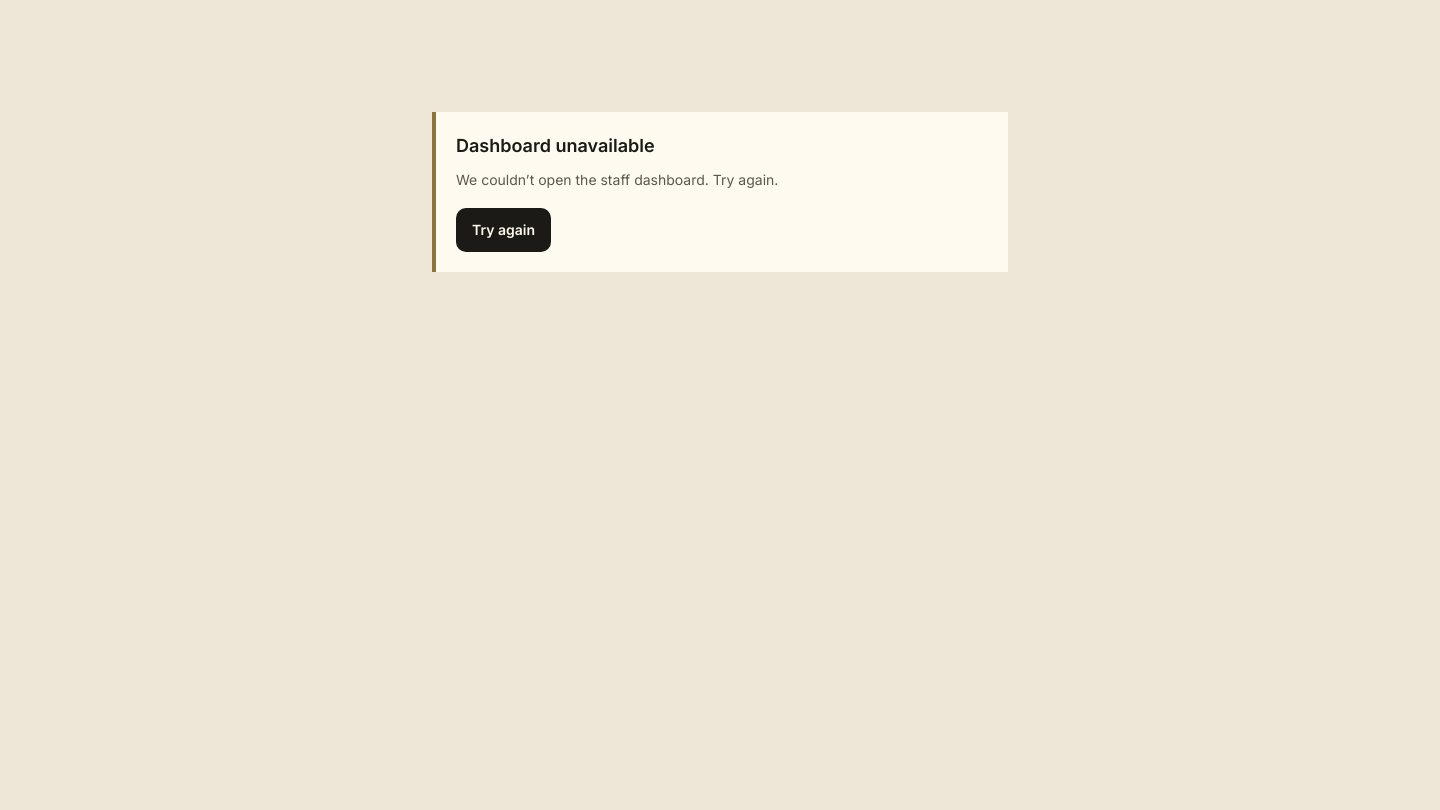
Test: role-aware shell and session boundary › shows generic session unavailability and retries without exposing response details
Expected: the message shows "Dashboard unavailable", [456,135,655,156]
Click the button "Try again": {"x": 504, "y": 230} [456,208,551,252]
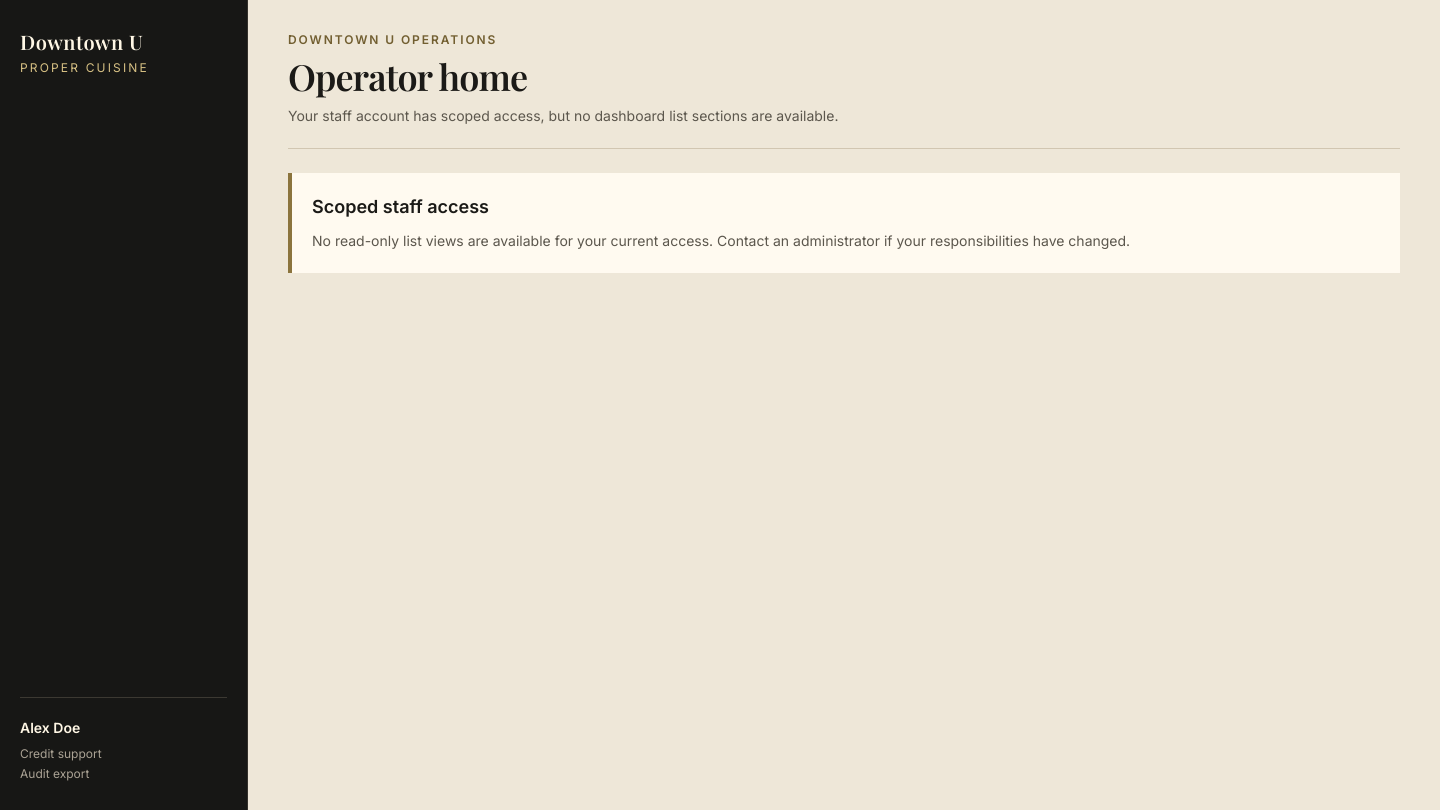
Expected: the heading "Operator home" is shown, [288,52,527,100]
